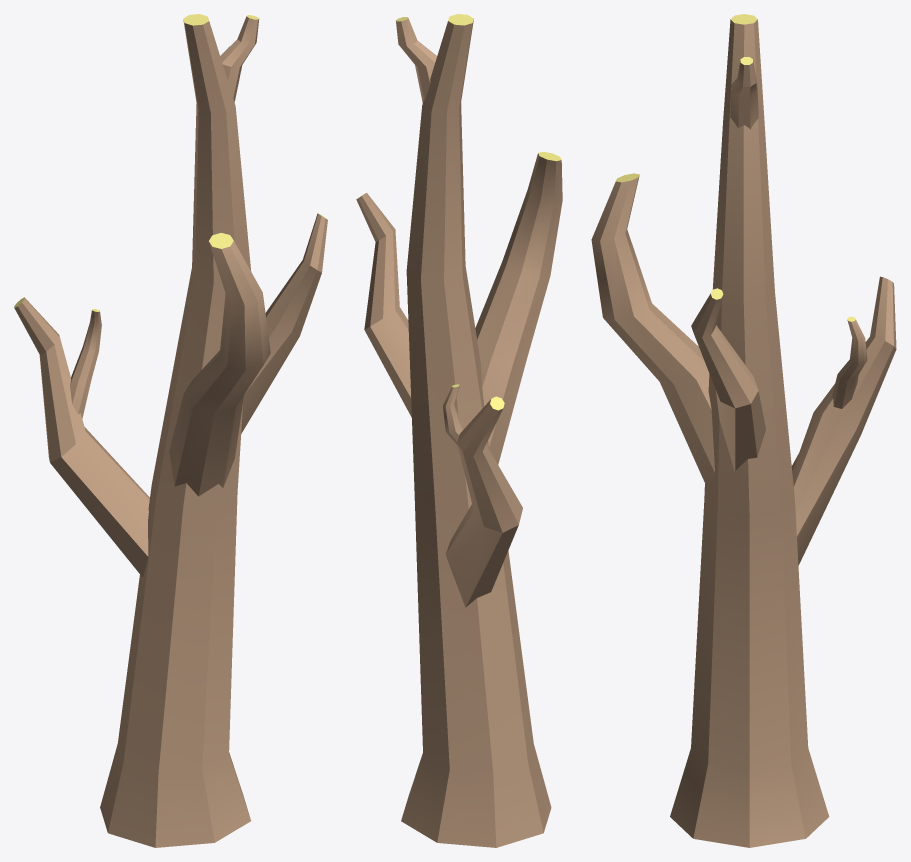
File: sand-tree 1.fbx
3 views of the same model, side by side, from view 1: azimuth 30°, elevation 25°; view 2: azimuth 150°, elevation 25°; view 3: azimuth 270°, elevation 25° (orthographic). The views are drawn at different scales.
Visible parts, largest first — view 1: 圆环.009; view 2: 圆环.009; view 3: 圆环.009.
Part boxes in pixels (x1,y1,x2,y2): 圆环.009: [14, 14, 327, 847]; 圆环.009: [356, 14, 562, 847]; 圆环.009: [591, 14, 896, 847].
Bounding box in the file's own units: 74.3 × 246 × 83.93.
